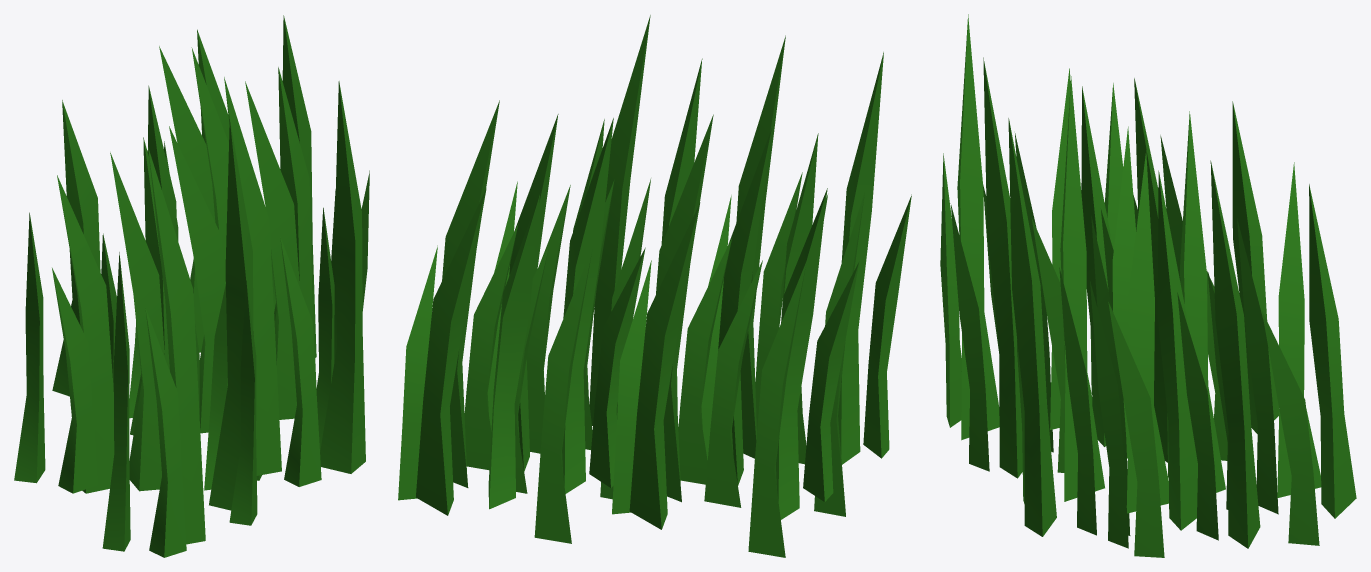
File: Grass2.obj
3 renders of one model, left to right at view 1: azimuth 30°, elevation 25°; view 2: azimuth 150°, elevation 25°; view 3: azimuth 270°, elevation 25°, orthographic. The views are drawn at different scales.
Parts seen in each view (by area): view 1: Cubo_14_2_Untitled.017, Cubo_22_2_Untitled.097, Cubo_13_2_Untitled.090, Cubo_21_2_Untitled.130, Cubo_25_2_Untitled.071, Cubo_31_2_Untitled.122, Cubo_10_2_Untitled.112, Cubo_28_2_Untitled.087, Cubo_24_2_Untitled.060, Cubo_11_2_Untitled.044, Cubo_29_2_Untitled.022, Cubo_27_2_Untitled.006 (+16 smaller); view 2: Cubo_35_2_Untitled.046, Cubo_6_3_Untitled.013, Cubo_7_2_Untitled.048, Cubo_4_3_Untitled.069, Cubo_22_2_Untitled.097, Cubo_8_2_Untitled.023, Cubo_27_2_Untitled.006, Cubo_14_2_Untitled.017, Cubo_31_2_Untitled.122, Cubo_30_2_Untitled.064, Cubo_29_2_Untitled.022, Cubo_34_2_Untitled.066 (+20 smaller); view 3: Cubo_14_2_Untitled.017, Cubo_3_3_Untitled.040, Cubo_21_2_Untitled.130, Cubo_6_3_Untitled.013, Cubo_17_2_Untitled.131, Cubo_22_2_Untitled.097, Cubo_13_2_Untitled.090, Cubo_10_2_Untitled.112, Cubo_15_2_Untitled.103, Cubo_2_4_Untitled.054, Cubo_7_2_Untitled.048, Cubo_4_3_Untitled.069 (+19 smaller).
Part boxes in pixels (bbox=[...]): Cubo_14_2_Untitled.017: bbox=[320, 81, 365, 473]; Cubo_22_2_Untitled.097: bbox=[148, 147, 205, 544]; Cubo_13_2_Untitled.090: bbox=[224, 77, 281, 475]; Cubo_21_2_Untitled.130: bbox=[209, 119, 253, 510]; Cubo_25_2_Untitled.071: bbox=[110, 152, 164, 491]; Cubo_31_2_Untitled.122: bbox=[57, 175, 114, 493]; Cubo_10_2_Untitled.112: bbox=[245, 81, 299, 419]; Cubo_28_2_Untitled.087: bbox=[169, 126, 227, 433]; Cubo_24_2_Untitled.060: bbox=[145, 307, 186, 557]; Cubo_11_2_Untitled.044: bbox=[280, 237, 321, 486]; Cubo_29_2_Untitled.022: bbox=[52, 268, 97, 493]; Cubo_27_2_Untitled.006: bbox=[14, 212, 45, 483]; Cubo_35_2_Untitled.046: bbox=[629, 202, 700, 529]; Cubo_6_3_Untitled.013: bbox=[416, 188, 486, 515]; Cubo_7_2_Untitled.048: bbox=[488, 194, 539, 509]; Cubo_4_3_Untitled.069: bbox=[562, 118, 613, 493]; Cubo_22_2_Untitled.097: bbox=[838, 52, 883, 464]; Cubo_8_2_Untitled.023: bbox=[534, 247, 592, 543]; Cubo_27_2_Untitled.006: bbox=[748, 261, 806, 557]; Cubo_14_2_Untitled.017: bbox=[589, 15, 650, 425]; Cubo_31_2_Untitled.122: bbox=[776, 188, 827, 519]; Cubo_30_2_Untitled.064: bbox=[704, 260, 762, 507]; Cubo_29_2_Untitled.022: bbox=[803, 262, 859, 501]; Cubo_34_2_Untitled.066: bbox=[678, 238, 731, 484]; Cubo_14_2_Untitled.017: bbox=[1008, 118, 1056, 536]; Cubo_3_3_Untitled.040: bbox=[1210, 160, 1260, 548]; Cubo_21_2_Untitled.130: bbox=[983, 57, 1022, 478]; Cubo_6_3_Untitled.013: bbox=[1309, 184, 1356, 518]; Cubo_17_2_Untitled.131: bbox=[1157, 170, 1197, 530]; Cubo_22_2_Untitled.097: bbox=[957, 14, 999, 440]; Cubo_13_2_Untitled.090: bbox=[1060, 76, 1104, 501]; Cubo_10_2_Untitled.112: bbox=[1126, 150, 1168, 513]; Cubo_15_2_Untitled.103: bbox=[1108, 302, 1164, 557]; Cubo_2_4_Untitled.054: bbox=[1261, 310, 1319, 545]; Cubo_7_2_Untitled.048: bbox=[1277, 162, 1321, 498]; Cubo_4_3_Untitled.069: bbox=[1180, 111, 1225, 492].
Bounding box in the file's own units: 1.19 × 1.41 × 1.25.
